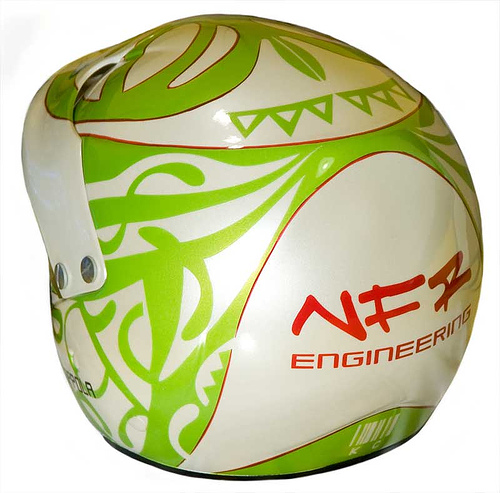helmet: (27, 36, 469, 439)
